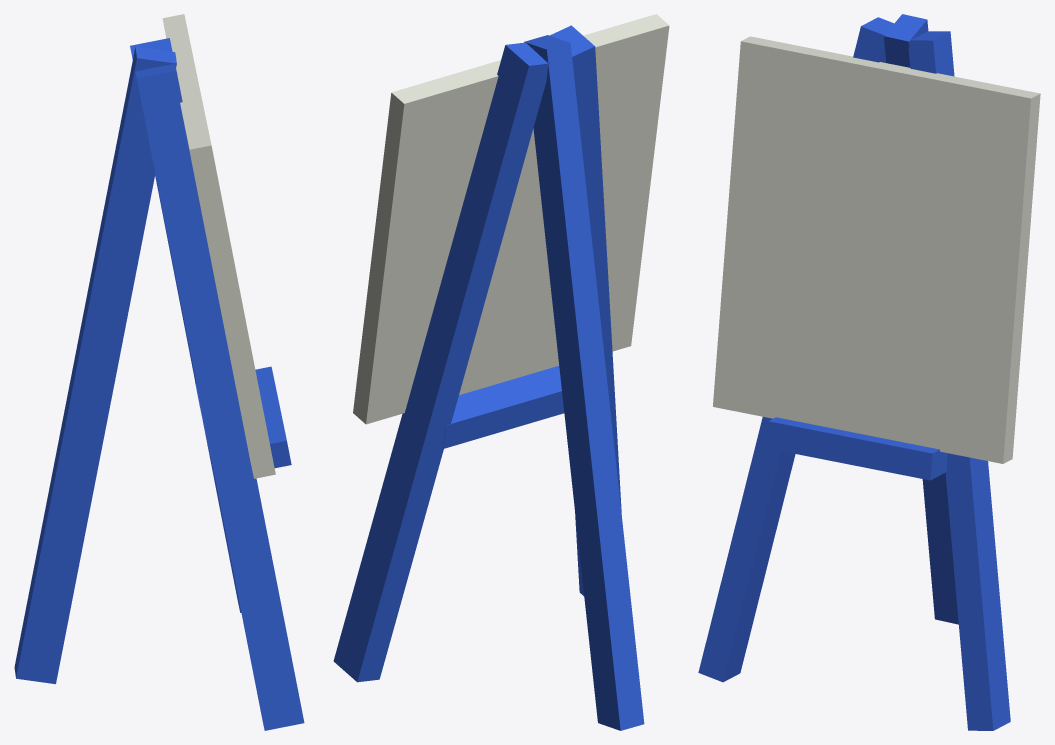
The model's file is painting.glb.
The picture shows the model from 3 angles, left to right: view 1: azimuth 30°, elevation 25°; view 2: azimuth 150°, elevation 25°; view 3: azimuth 270°, elevation 25°; orthographic projection. The views are drawn at different scales.
Visible parts, largest first — view 1: Cube.052, Cube.051, Cube.044, Cube.049, Cube.050; view 2: Cube.044, Cube.050, Cube.051, Cube.052, Cube.049; view 3: Cube.044, Cube.050, Cube.052, Cube.049, Cube.051.
Part boxes in pixels (x1,y1,x2,y2): Cube.052: (135,64,304,730); Cube.051: (14,46,176,684); Cube.044: (162,14,275,478); Cube.049: (195,366,291,479); Cube.050: (130,38,241,612); Cube.044: (353,14,669,424); Cube.050: (333,42,550,682); Cube.051: (524,35,644,730); Cube.052: (550,25,621,596); Cube.049: (443,366,564,448); Cube.044: (713,36,1040,463); Cube.050: (908,31,1010,730); Cube.052: (698,17,893,682); Cube.049: (766,417,947,480); Cube.051: (884,14,958,624).
Bounding box in the file's own units: 1.78 × 3.78 × 1.84.
